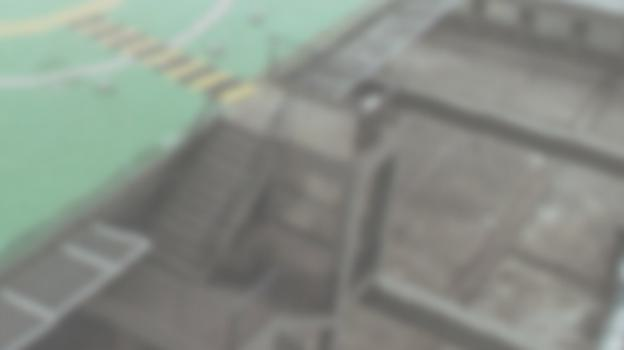Apron: (1, 1, 132, 45)
